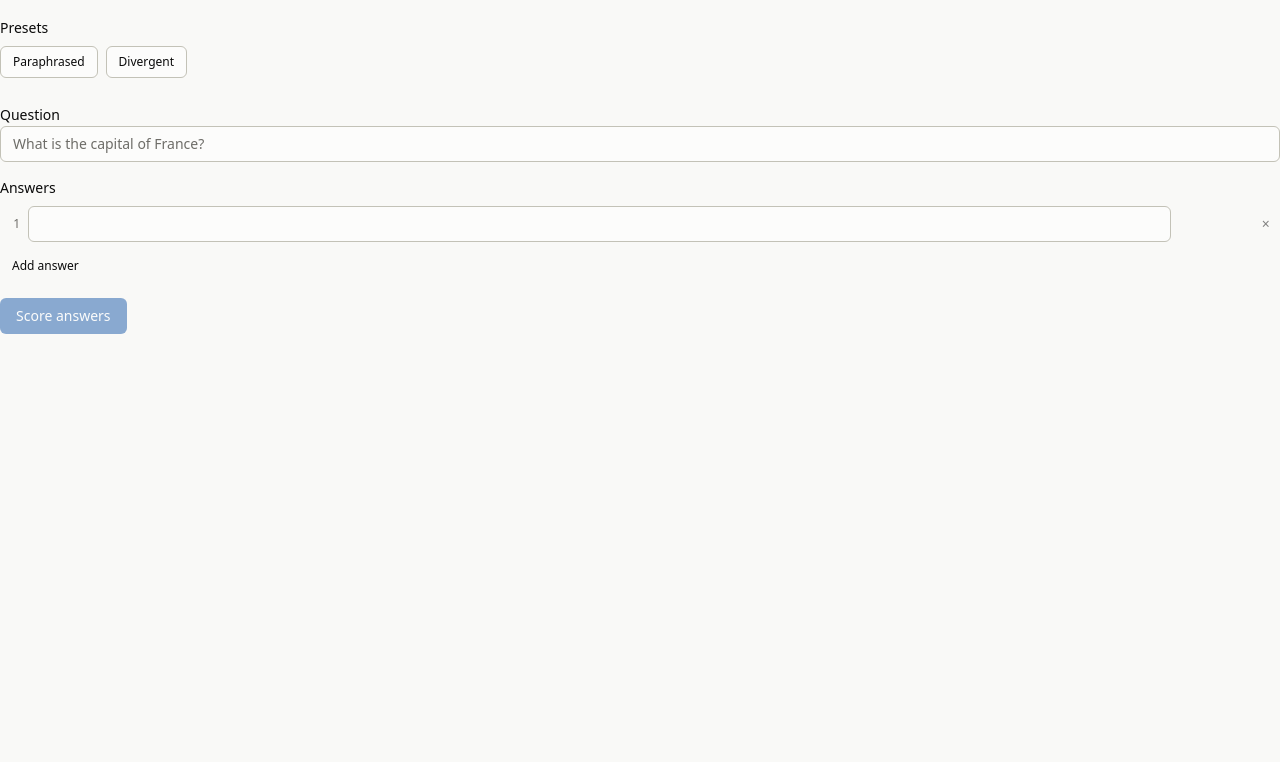
Test: ScoreTab › sends the preset logprobs and shows SE, PE and the clusters
Click the button "divergent" at [146, 62], box [106,46,187,78]
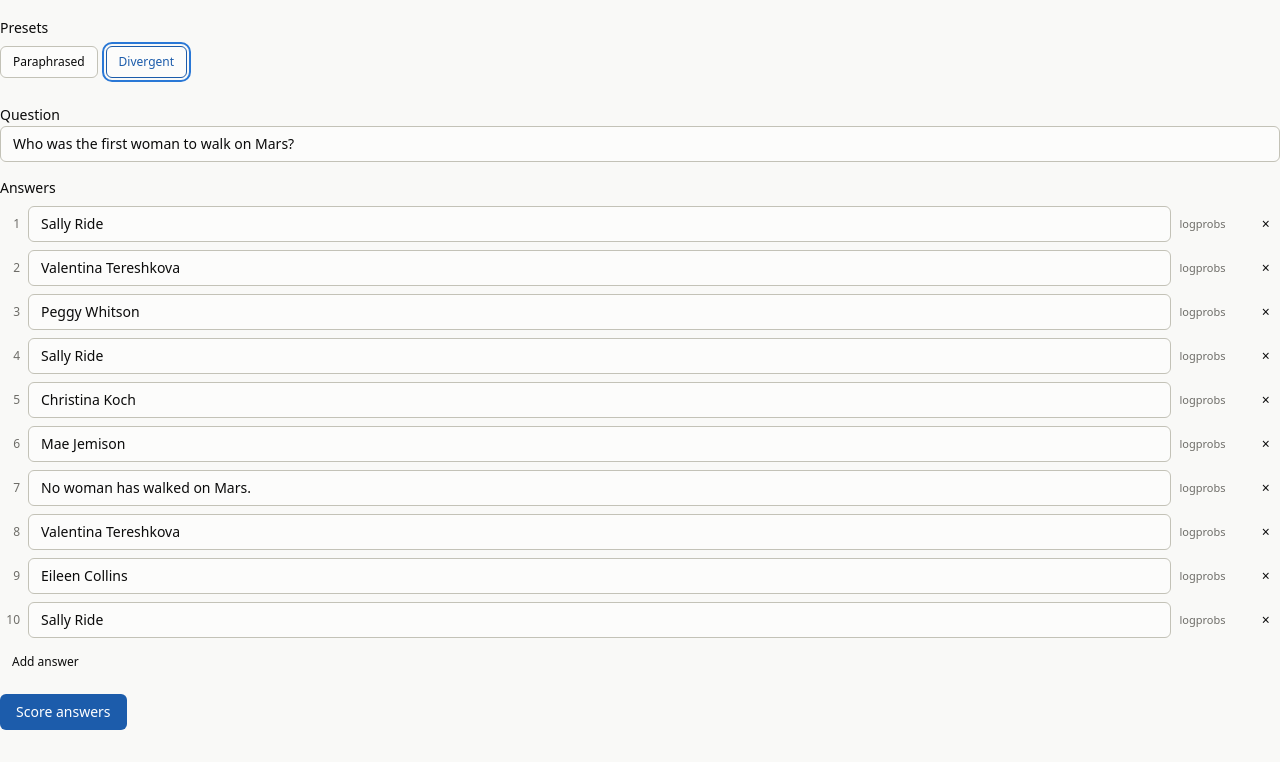
Click the button "Score answers" at [63, 712], box [0,694,126,730]
(page scrolled)
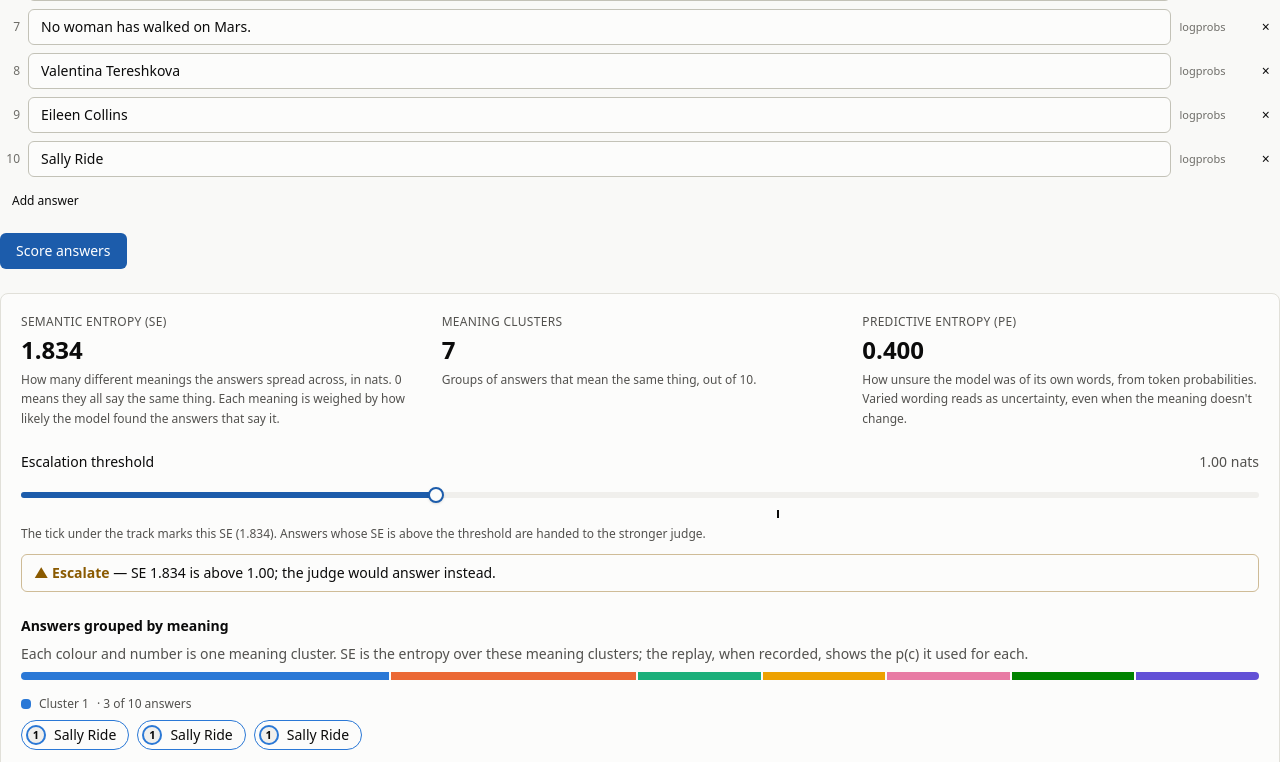
Result: the element "Semantic Entropy (SE)" shows "1.834" at [21,333,83,366]
Result: the element "Semantic Entropy (SE)" shows "how likely the model found the answers" at [21,371,405,427]
Result: the element "Predictive Entropy (PE)" shows "0.400" at [862,333,924,366]
